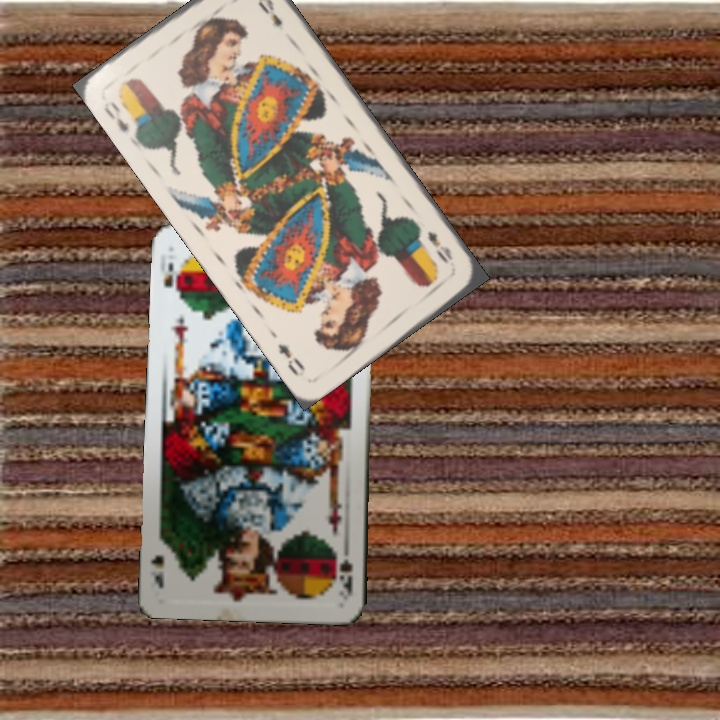EO: (423, 227, 456, 267), (99, 97, 132, 135)
SK: (331, 540, 356, 599), (159, 259, 184, 301)
